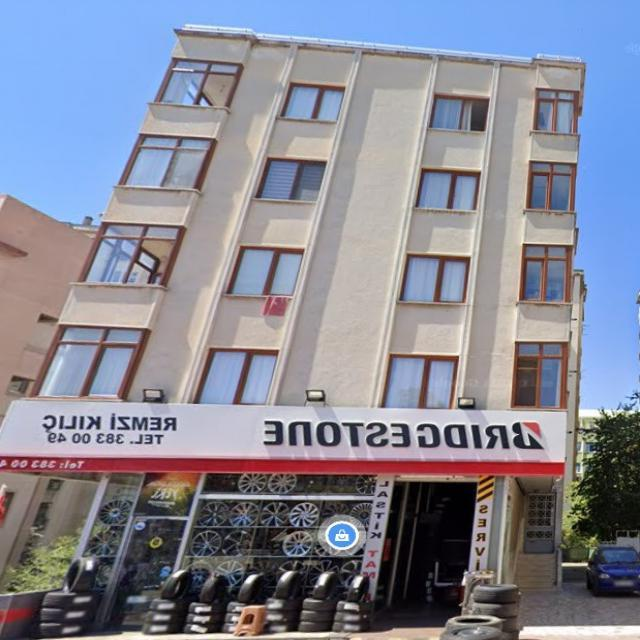Building: (0, 27, 585, 631)
